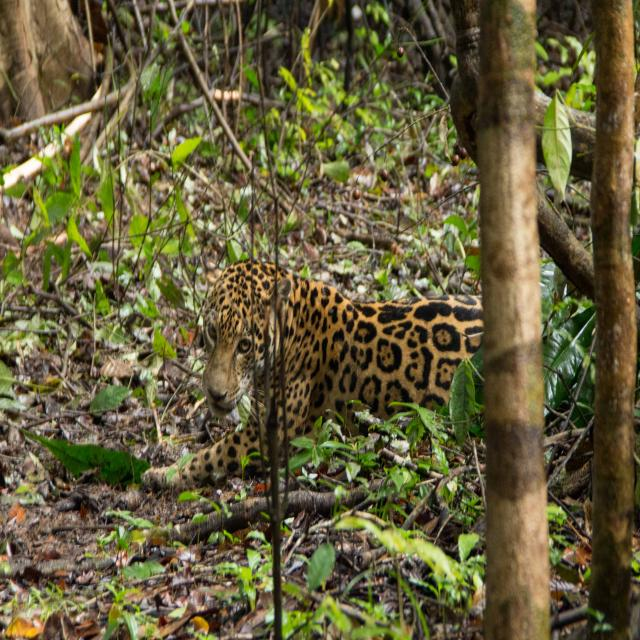Jaguar: (142, 256, 480, 495)
